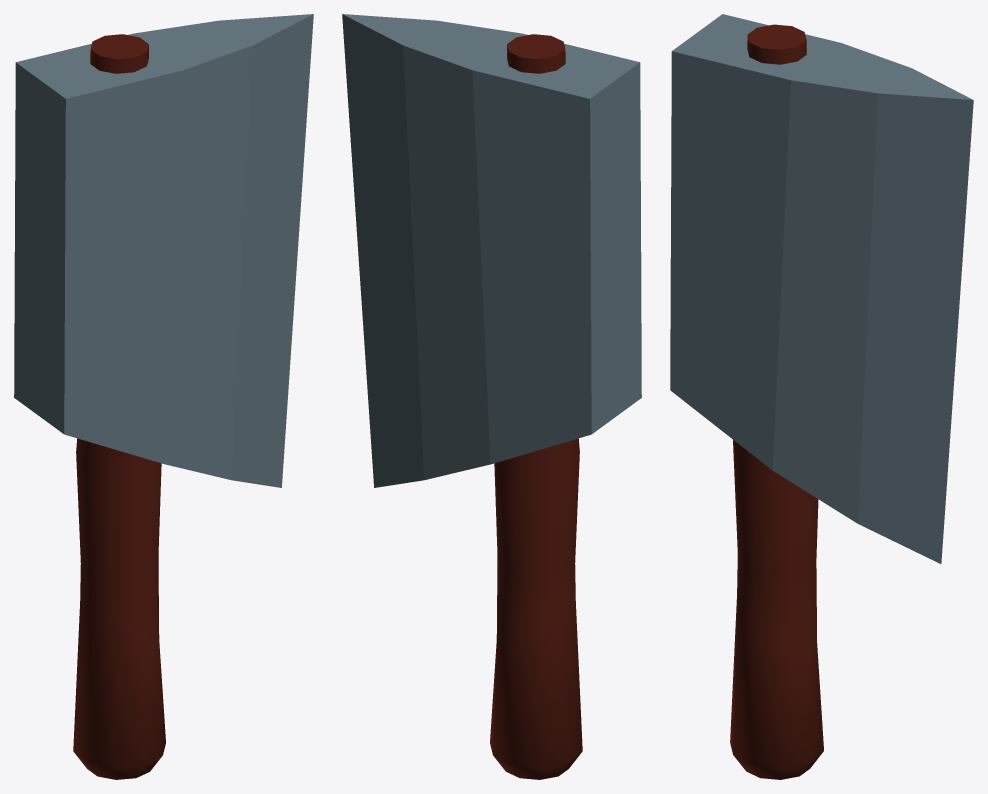
The model's file is cleaver.obj.
3 renders of one model, left to right at view 1: azimuth 30°, elevation 25°; view 2: azimuth 150°, elevation 25°; view 3: azimuth 330°, elevation 25°, orthographic.
Parts seen in each view (by area): view 1: cleaver_Cylinder.038; view 2: cleaver_Cylinder.038; view 3: cleaver_Cylinder.038.
Part boxes in pixels (x1,y1,x2,y2): cleaver_Cylinder.038: (14,14,313,779); cleaver_Cylinder.038: (342,14,641,779); cleaver_Cylinder.038: (670,14,973,779).
Size of the model in its own units: 0.3947 by 0.9878 by 0.1249.
